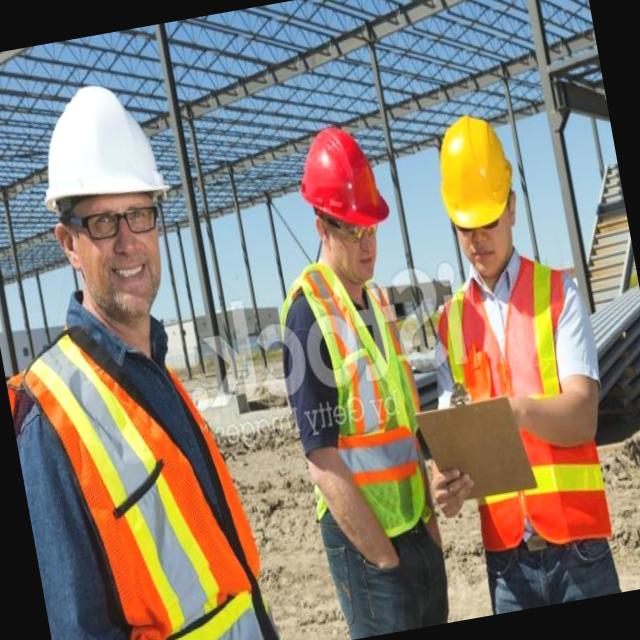helmet: (23, 69, 178, 227), (285, 119, 395, 248), (424, 106, 522, 237)
vest: (0, 298, 260, 640), (429, 260, 612, 560), (282, 250, 432, 532)
